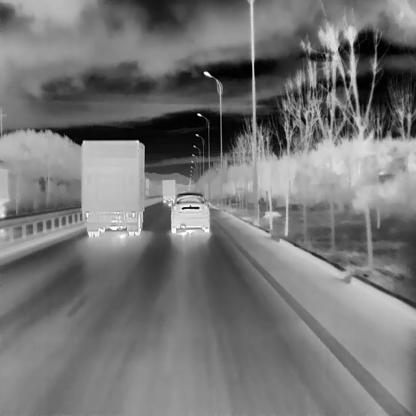car: (167, 191, 209, 233)
truck: (80, 138, 148, 237), (0, 167, 8, 217), (161, 179, 175, 203)
